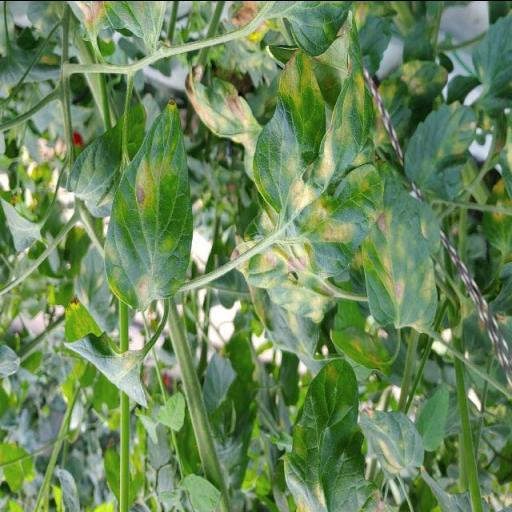disease_tomato: (253, 46, 391, 274), (104, 98, 192, 308), (361, 159, 439, 333), (229, 210, 334, 322), (405, 98, 479, 198), (378, 56, 450, 142), (361, 408, 425, 484)
